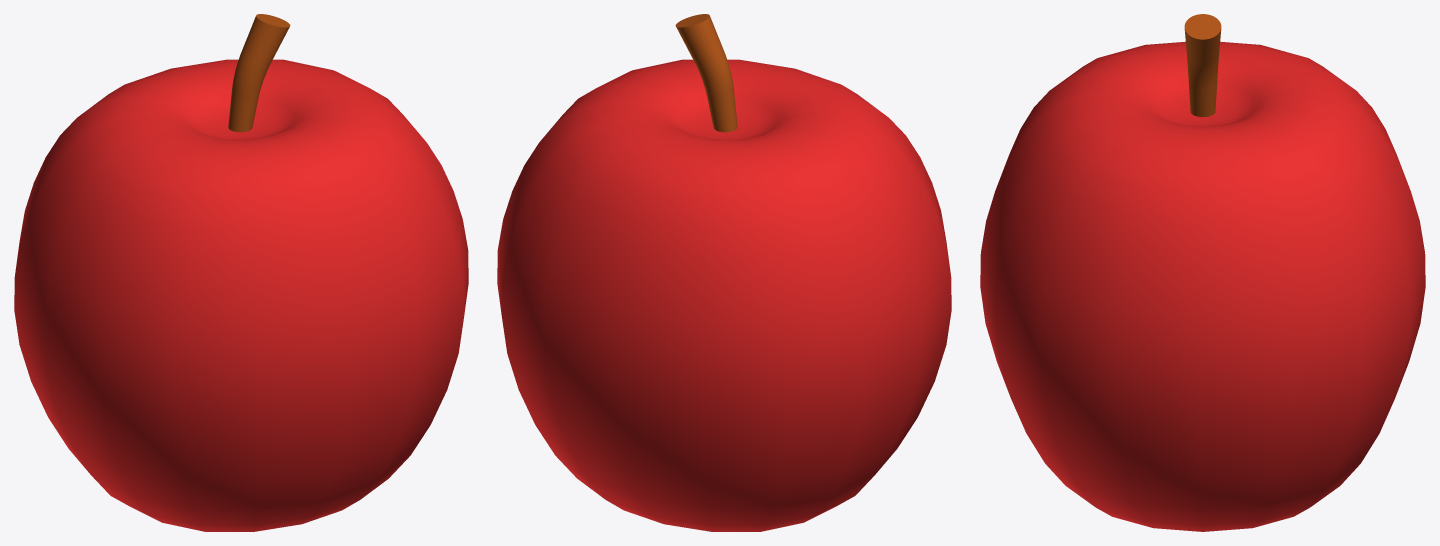
File: elma.fbx
3 renders of one model, left to right at view 1: azimuth 30°, elevation 25°; view 2: azimuth 150°, elevation 25°; view 3: azimuth 270°, elevation 25°, orthographic. The views are drawn at different scales.
Parts seen in each view (by area): view 1: Cube.003; view 2: Cube.003; view 3: Cube.003.
Boxes of the visible parts, x1,y1,x2,y2 form: Cube.003: (14,14,468,531); Cube.003: (497,14,951,531); Cube.003: (980,14,1425,531).
Bounding box in the file's own units: 68.81 × 77.58 × 65.09.
